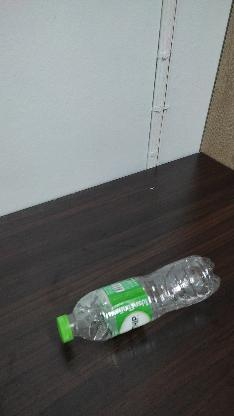Plastic Bottle: (49, 248, 225, 358)
